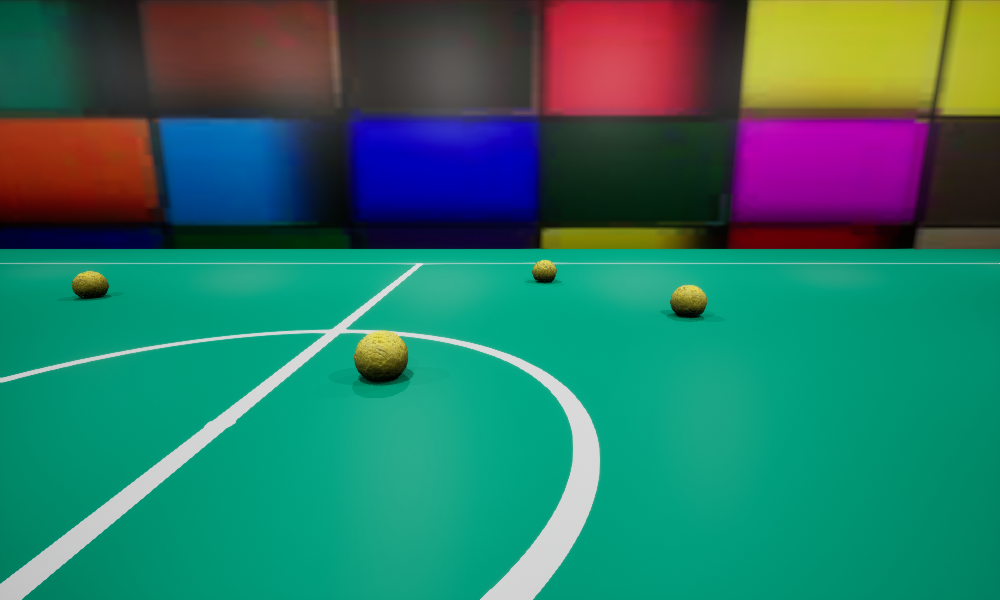b: (354, 330, 407, 381), (670, 285, 706, 317), (72, 271, 108, 298), (532, 260, 556, 282)
